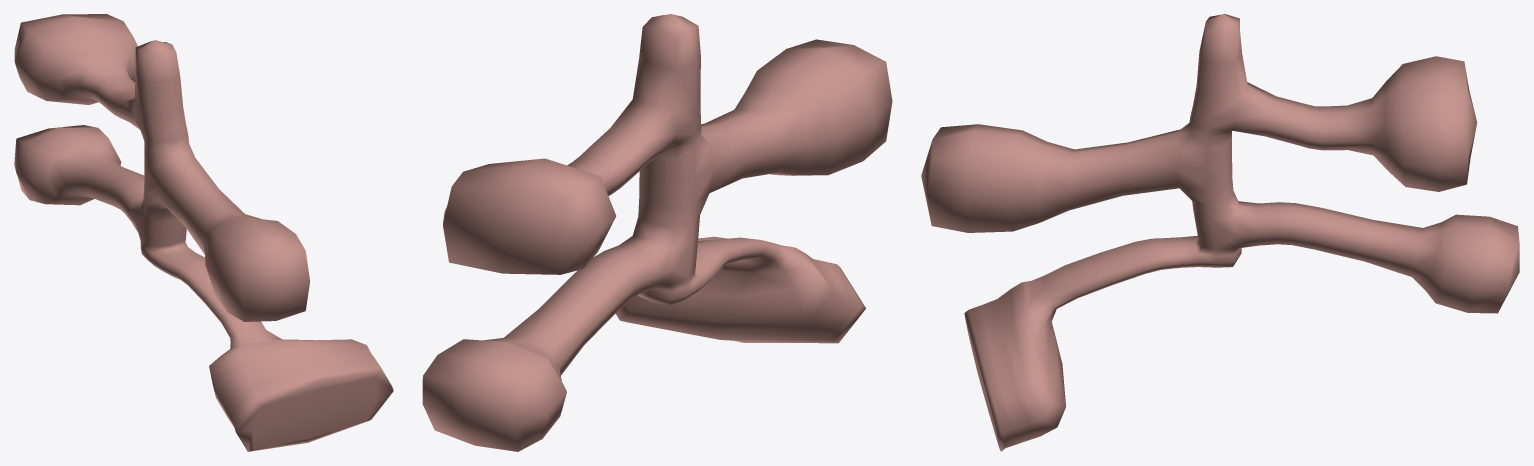
File: anthill.glb
3 renders of one model, left to right at view 1: azimuth 30°, elevation 25°; view 2: azimuth 150°, elevation 25°; view 3: azimuth 270°, elevation 25°, orthographic. The views are drawn at different scales.
Visible parts, largest first — view 1: Cube.001; view 2: Cube.001; view 3: Cube.001.
Boxes of the visible parts, x1,y1,x2,y2 form: Cube.001: [14, 14, 393, 451]; Cube.001: [422, 14, 892, 451]; Cube.001: [921, 14, 1519, 451].
Bounding box in the file's own units: 4.94 × 8.72 × 12.52.
